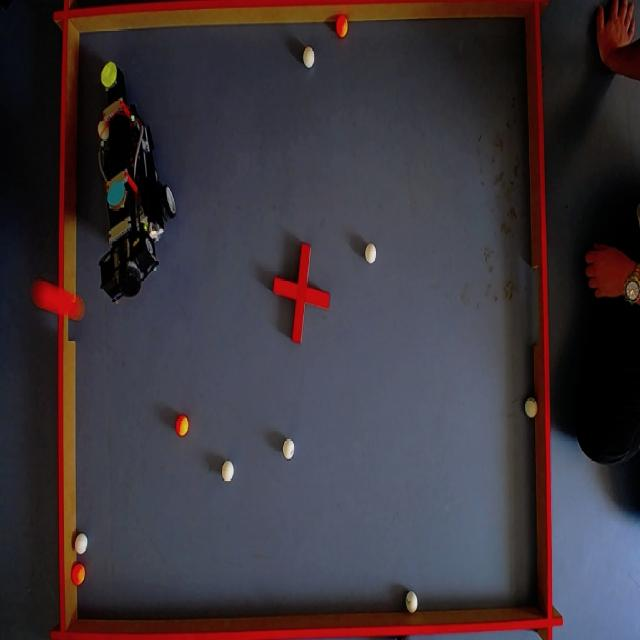orange: (337, 16, 350, 38), (72, 566, 86, 586), (178, 416, 191, 436)
robot: (90, 57, 180, 311)
robot-front: (98, 59, 118, 88)
robot-rear: (109, 177, 130, 208)
white: (404, 591, 419, 613), (76, 534, 90, 556), (284, 438, 298, 460), (304, 46, 316, 71), (222, 462, 235, 484), (365, 242, 378, 264), (524, 397, 537, 418)
